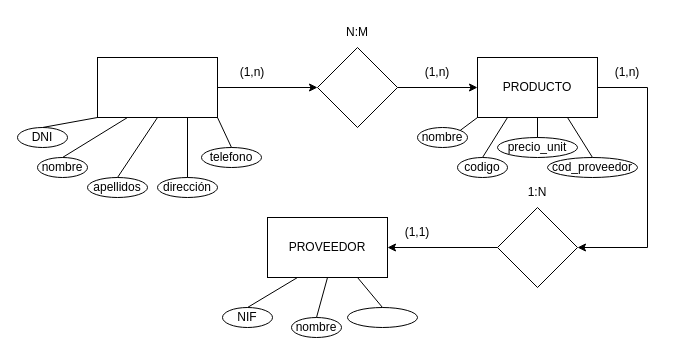
Image size: 675x355. Some labels were removed from this diagram. The box of each missing label's shape, as (x1, y1, x2, y2) in pixels:
CLIENTE: (96, 56, 218, 118)
compra: (316, 46, 398, 128)
direccion: (346, 306, 418, 328)
suministra: (496, 206, 578, 288)
